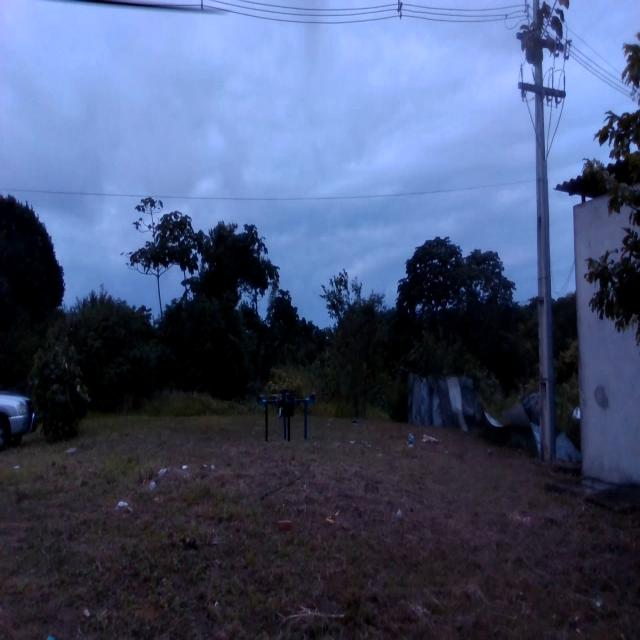-uav-: (246, 357, 326, 458)
